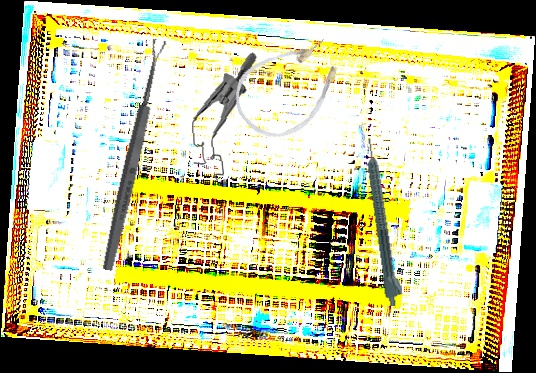Cannula: (220, 21, 360, 154)
Handpiece: (362, 136, 407, 308)
Speculum: (185, 52, 266, 184)
Surgical Spoon: (99, 38, 169, 272)
